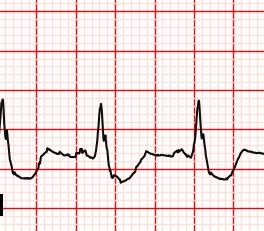ST Depression: (86, 144, 153, 194)
